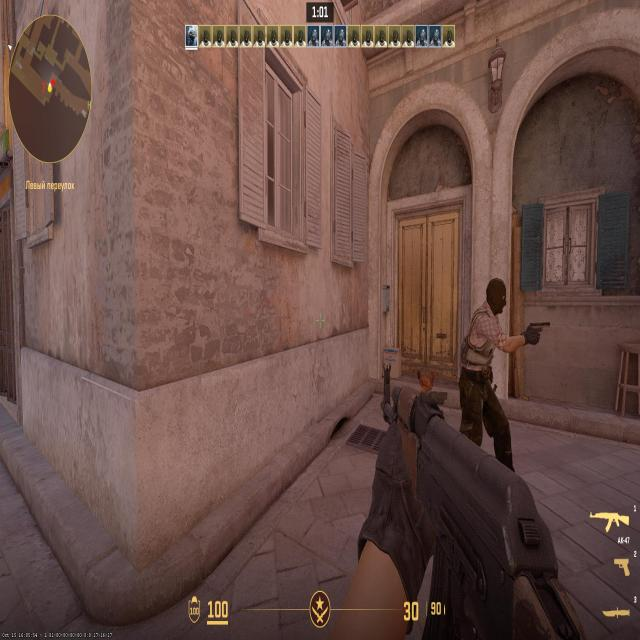T: (469, 279, 505, 438)
T_heat: (490, 292, 498, 318)
